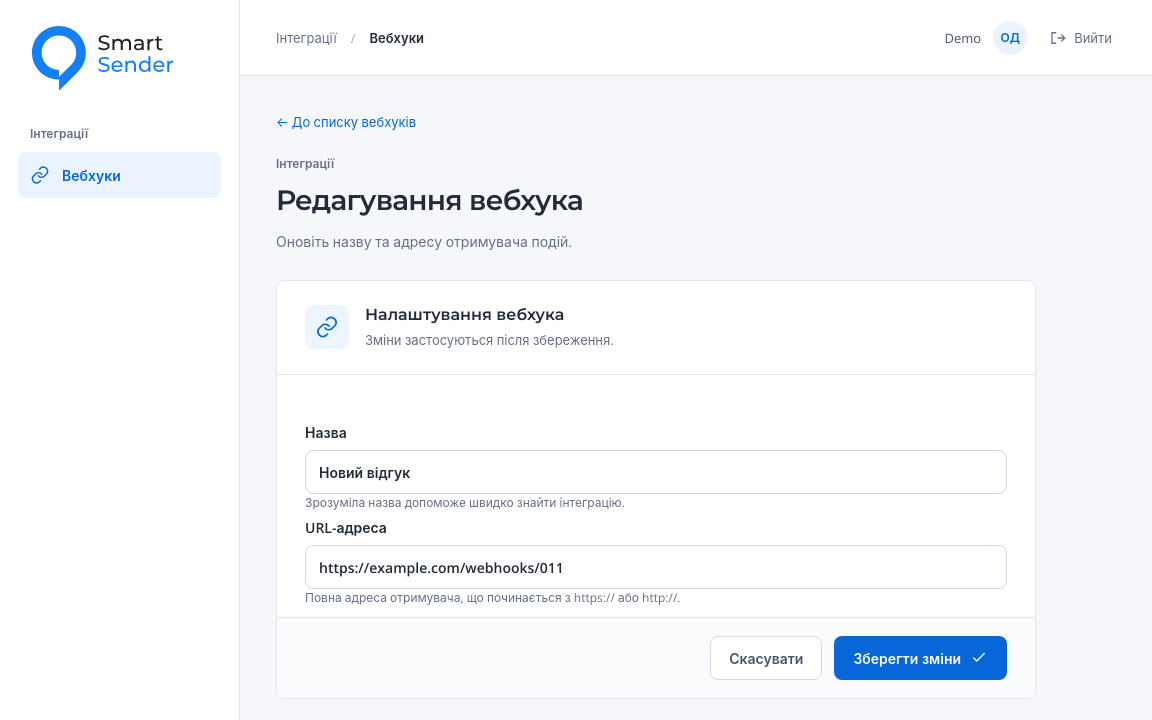
Scenario: EditWebhookActor component › reloads server values after cancelling changes stored in the editor
Replace the text in the field labelled "Назва Зрозуміла назва допоможе швидко знайти інтеграцію." with "Unsaved" at [656, 472], box left=305, top=450, right=1007, bottom=494
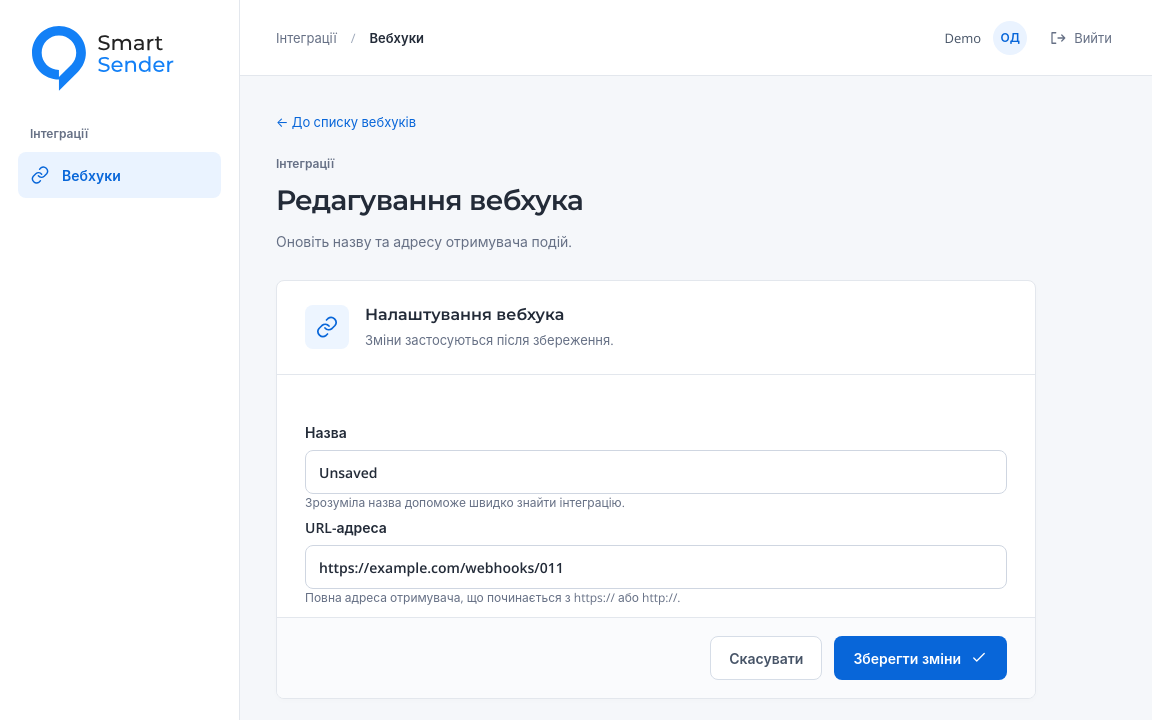
Click the link "Скасувати".
click(766, 658)  # box left=710, top=636, right=822, bottom=680
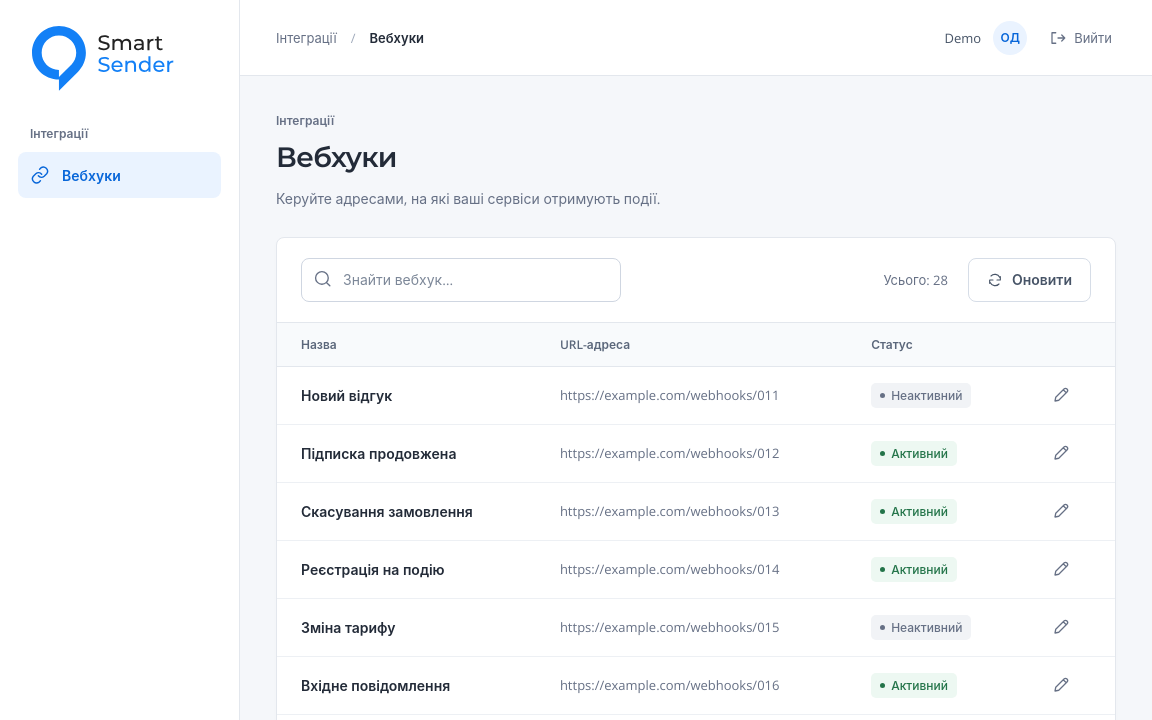
Click the link "Новий відгук".
click(347, 395)  # box left=301, top=386, right=392, bottom=405
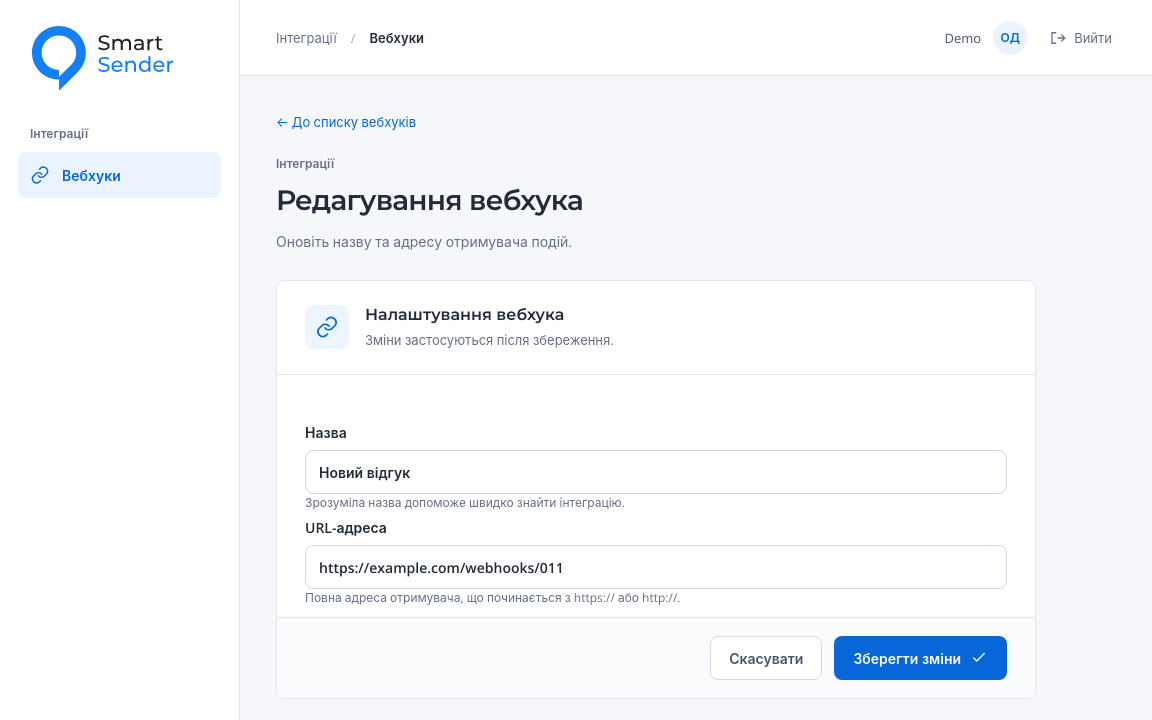
Check: the field labelled "Назва Зрозуміла назва допоможе швидко знайти інтеграцію." holds "Новий відгук", box left=305, top=450, right=1007, bottom=494
